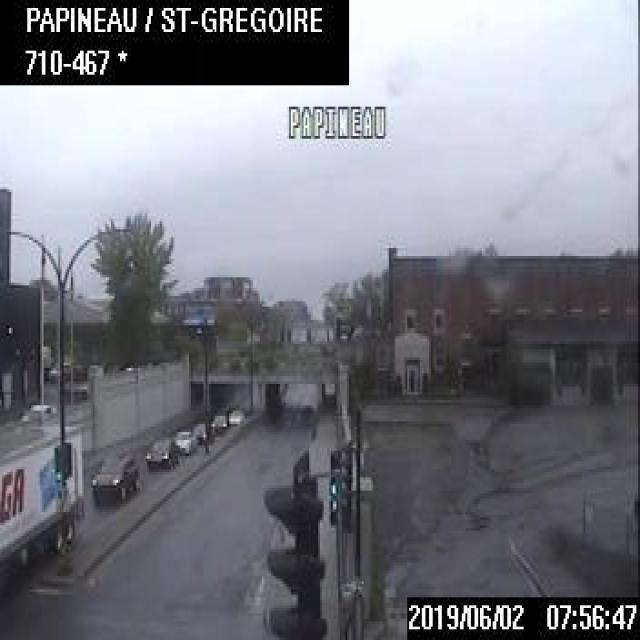vehicle: (0, 419, 84, 592), (89, 445, 138, 499), (144, 437, 178, 467), (171, 427, 197, 455), (20, 402, 54, 421), (190, 419, 212, 446), (208, 410, 228, 432), (226, 405, 244, 427), (60, 419, 62, 421)
